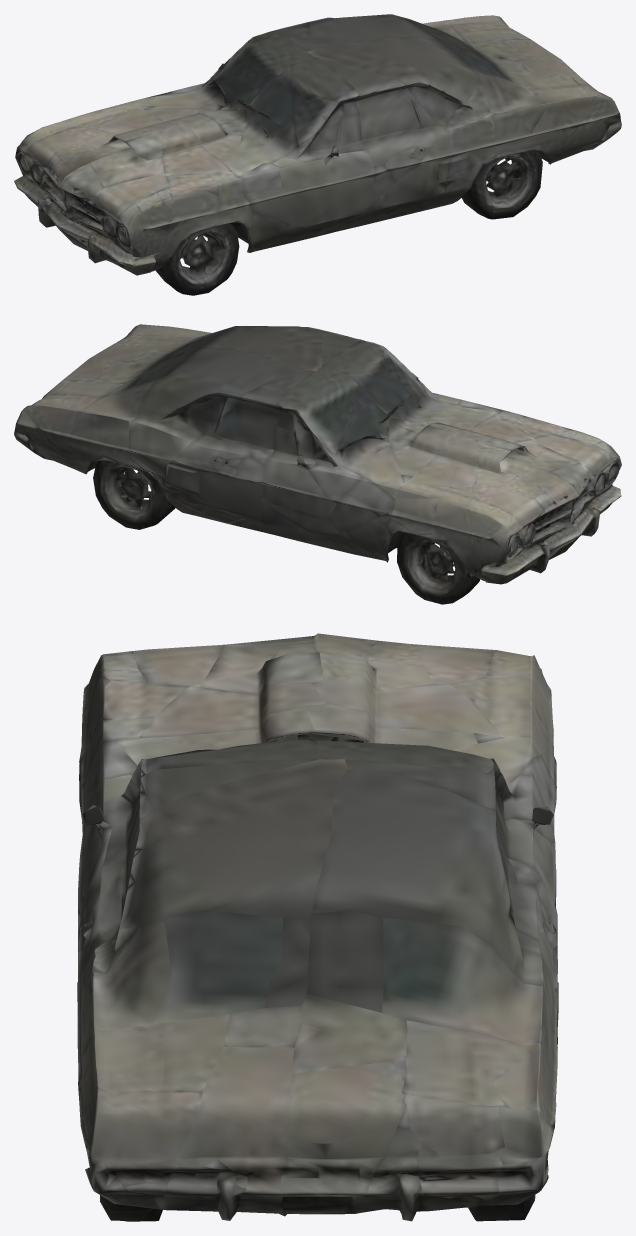
File: car_muscle_light_q2.glb
3 views of the same model, one above another, from view 1: azimuth 30°, elevation 25°; view 2: azimuth 150°, elevation 25°; view 3: azimuth 270°, elevation 25° (orthographic). The views are drawn at different scales.
Bounding box in the file's own units: 4.55 × 1.34 × 1.83.
1 material, 1 textured.
